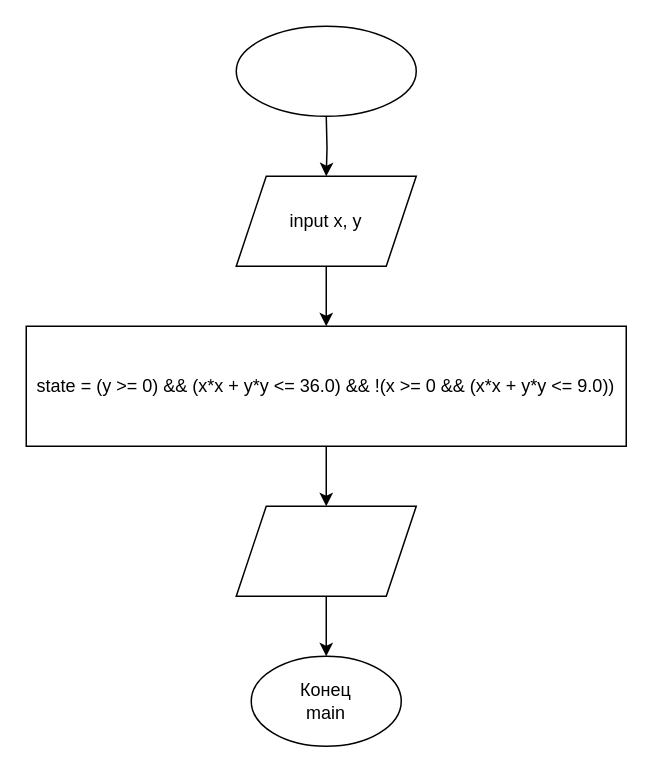
This 653x773 diagram has some shape labels left out. The box of each missing label's shape, as (x1, y1, x2, y2) in pixels:
Вывод state (результата): (235, 505, 416, 596)
Начало main: (235, 25, 416, 116)
